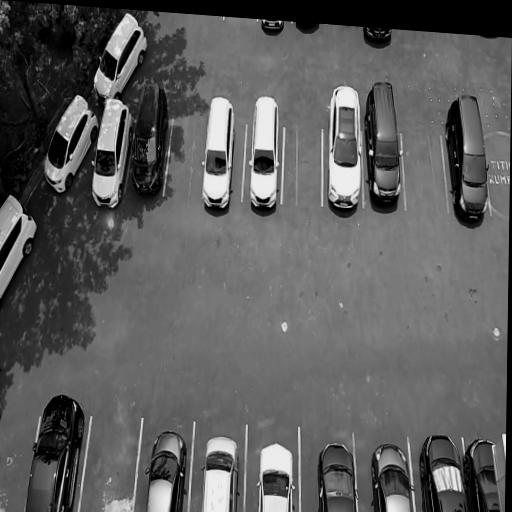Car: (20, 386, 91, 512), (36, 86, 101, 206), (85, 11, 153, 111), (445, 91, 493, 228), (84, 97, 137, 215), (126, 76, 173, 205), (326, 81, 364, 222), (200, 91, 243, 214), (0, 183, 42, 307), (366, 78, 403, 216), (246, 92, 286, 217), (140, 421, 192, 512), (416, 428, 472, 512), (196, 431, 242, 512), (368, 438, 416, 512), (315, 437, 360, 512), (254, 440, 299, 512), (464, 438, 501, 512), (364, 27, 395, 46), (260, 19, 287, 39)
Space Available: (79, 404, 142, 512), (163, 112, 207, 211), (404, 119, 446, 214), (283, 121, 321, 214), (484, 133, 511, 217)
